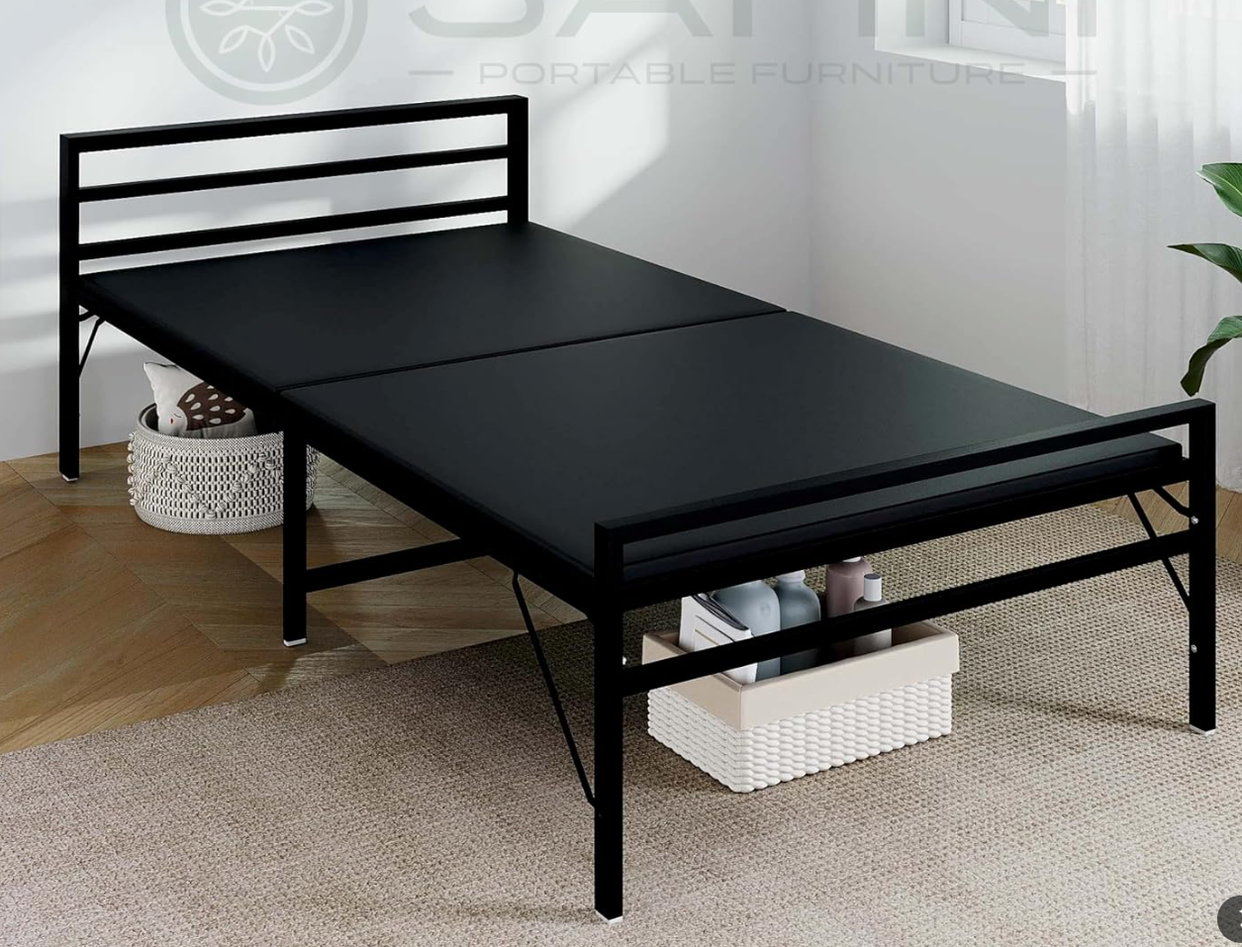cot: (50, 84, 1226, 925)
